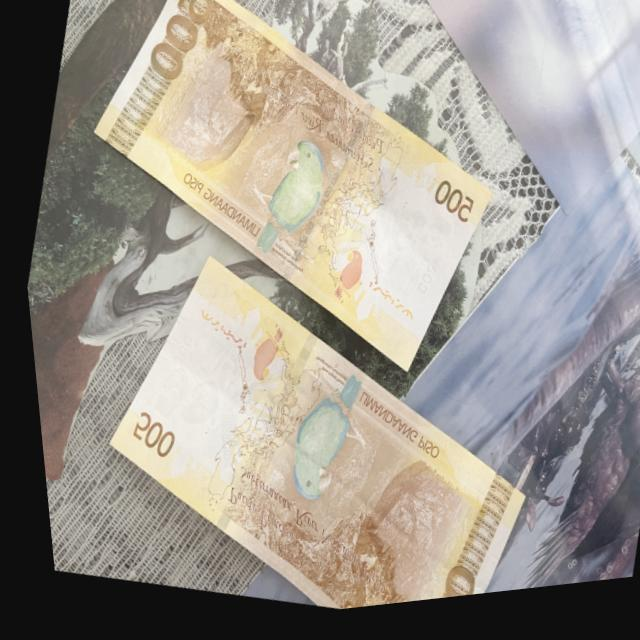500_big_parrot: (260, 373, 365, 516), (237, 129, 337, 276)
500_parrot_watermark: (233, 327, 284, 392), (318, 251, 368, 317)
value_watermark: (158, 334, 190, 384), (404, 270, 434, 307)
watermark: (128, 320, 240, 470), (356, 187, 461, 323)
